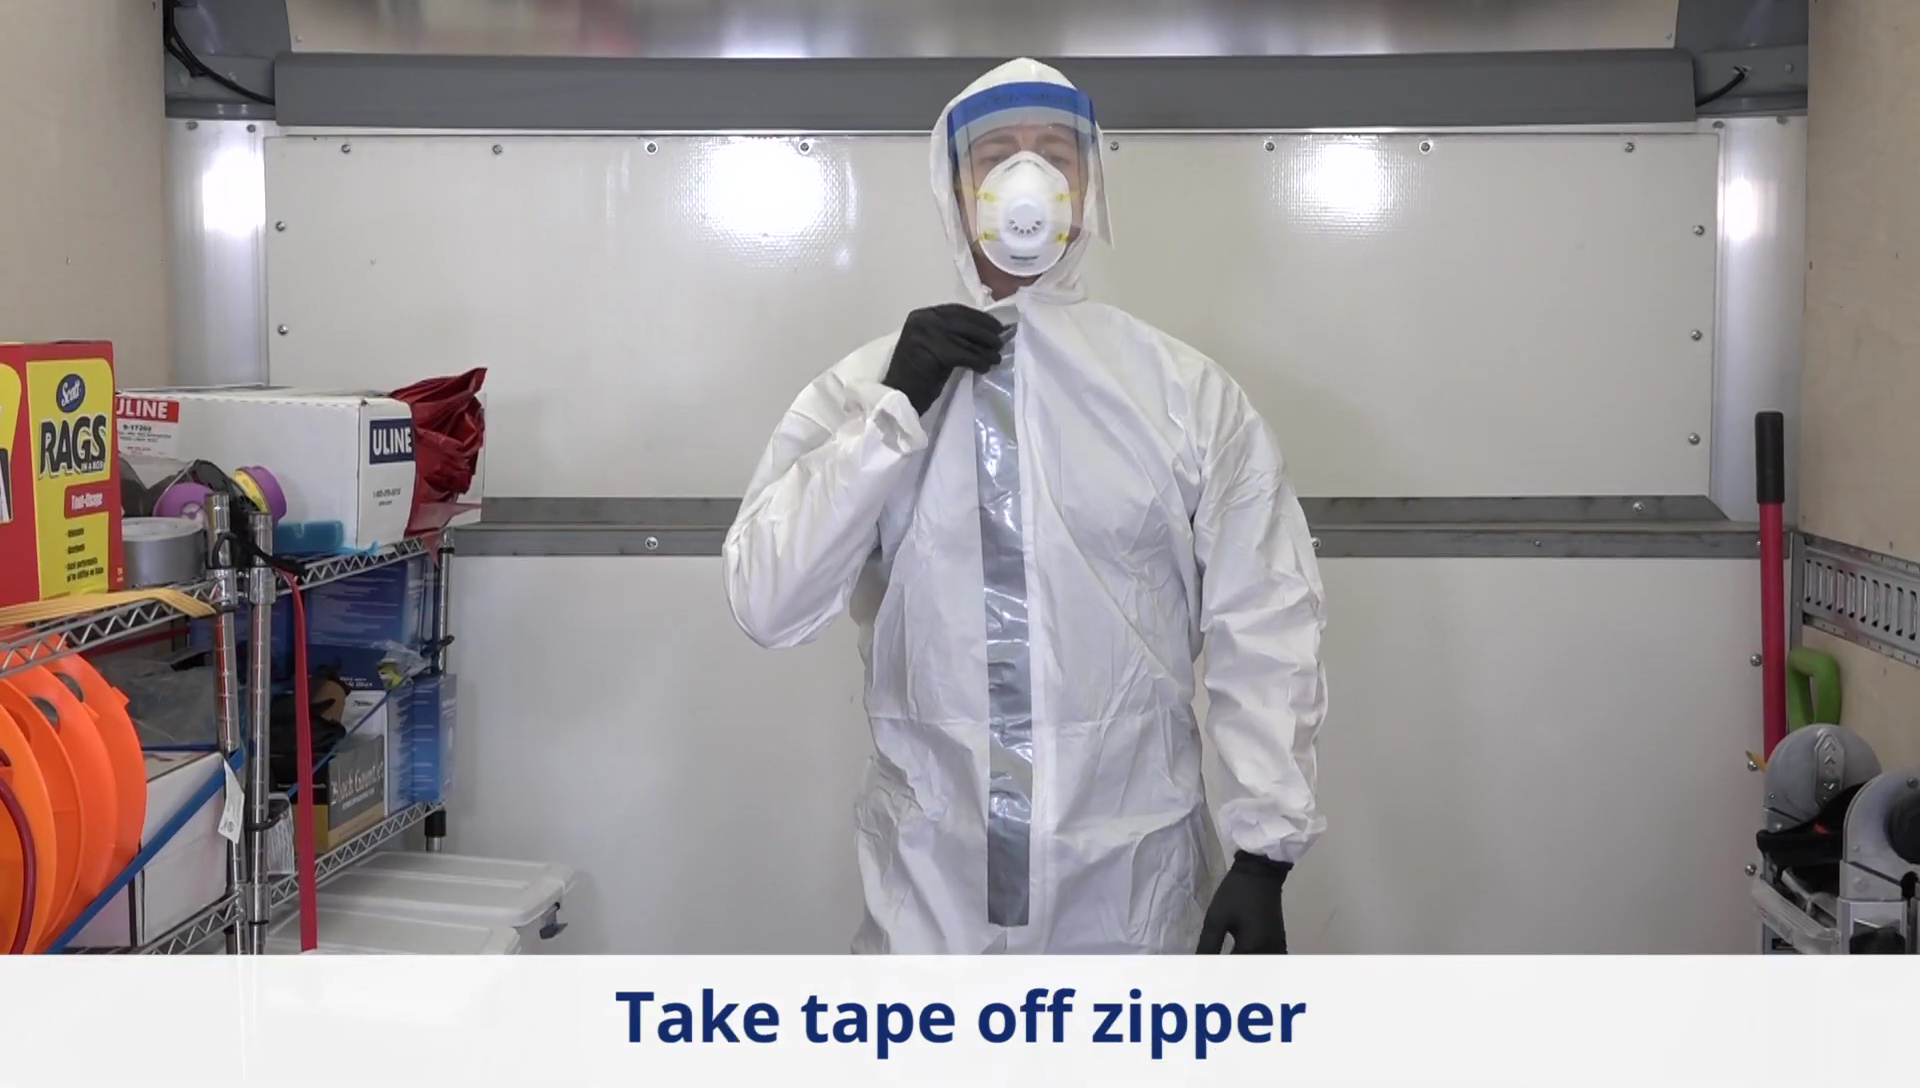Coverall: (723, 57, 1326, 953)
Face_Shield: (942, 83, 1126, 263)
Gloves: (882, 303, 1010, 417), (1198, 851, 1296, 955)
with_mask: (965, 133, 1081, 282)
